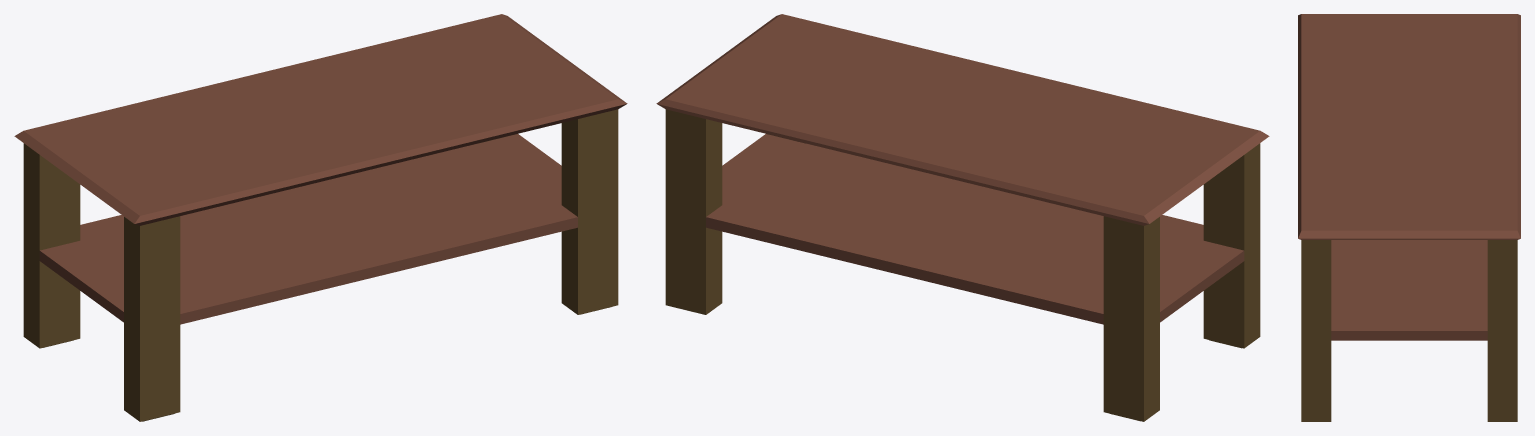
The model's file is Death'sTable.fbx.
3 renders of one model, left to right at view 1: azimuth 30°, elevation 25°; view 2: azimuth 150°, elevation 25°; view 3: azimuth 270°, elevation 25°, orthographic. The views are drawn at different scales.
Parts seen in each view (by area): view 1: Table top half, Table bottom half; view 2: Table top half, Table bottom half; view 3: Table top half, Table bottom half.
Part boxes in pixels (x1,y1,x2,y2): Table top half: [14, 14, 627, 323]; Table bottom half: [23, 134, 618, 421]; Table top half: [656, 14, 1269, 323]; Table bottom half: [665, 134, 1260, 421]; Table top half: [1298, 14, 1520, 330]; Table bottom half: [1301, 240, 1517, 421].
Size of the model in its own units: 447 by 180 by 189.
